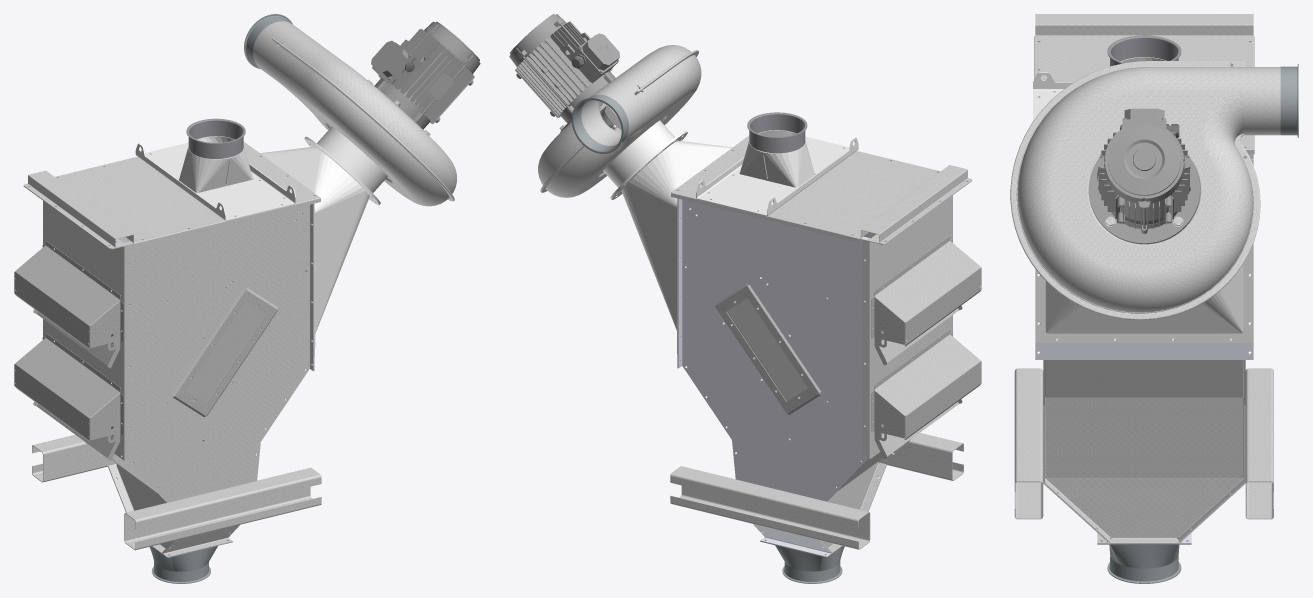
Rendered from NDV15-35.glb.
The picture shows the model from 3 angles, left to right: view 1: azimuth 30°, elevation 25°; view 2: azimuth 150°, elevation 25°; view 3: azimuth 270°, elevation 25°; orthographic projection. The views are drawn at different scales.
Visible parts, largest first — view 1: Volumenkörper4, Volumenkörper2.018, Volumenkörper3, Volumenkörper1.002, Volumenkörper2.027, Volumenkörper2.025, Volumenkörper2.002, Volumenkörper2.012, Solid1.009, Volumenkörper2.022, Volumenkörper2.029, Volumenkörper2.011 (+15 smaller); view 2: Volumenkörper2.001, Volumenkörper3, Volumenkörper2.018, Volumenkörper1.001, Volumenkörper2.027, Volumenkörper2.025, Volumenkörper2.002, Volumenkörper5, Solid1.009, Volumenkörper2.022, Volumenkörper2.030, Volumenkörper2.010 (+15 smaller); view 3: Volumenkörper2.018, Volumenkörper2.009, Volumenkörper3, Solid1.010, Volumenkörper2.021, Volumenkörper5, Volumenkörper1.002, Volumenkörper1.001, Volumenkörper2.012, Volumenkörper2, Volumenkörper1, Solid1.008 (+6 smaller).
Boxes of the visible parts, box(x1,y1,x2,y2) form: Volumenkörper4: box(125, 204, 313, 557); Volumenkörper2.018: box(253, 21, 456, 206); Volumenkörper3: box(23, 141, 320, 248); Volumenkörper1.002: box(124, 467, 321, 550); Volumenkörper2.027: box(14, 333, 123, 441); Volumenkörper2.025: box(14, 241, 123, 349); Volumenkörper2.002: box(23, 186, 131, 460); Volumenkörper2.012: box(288, 151, 369, 347); Solid1.009: box(374, 29, 474, 123); Volumenkörper2.022: box(135, 142, 296, 221); Volumenkörper2.029: box(172, 287, 277, 416); Volumenkörper2.011: box(186, 302, 265, 403); Volumenkörper2.001: box(678, 198, 868, 557); Volumenkörper3: box(671, 136, 972, 244); Volumenkörper2.018: box(538, 45, 701, 197); Volumenkörper1.001: box(670, 466, 870, 549); Volumenkörper2.027: box(871, 330, 981, 439); Volumenkörper2.025: box(871, 236, 981, 346); Volumenkörper2.002: box(862, 181, 971, 458); Volumenkörper5: box(621, 145, 704, 344); Solid1.009: box(515, 21, 617, 117); Volumenkörper2.022: box(696, 136, 858, 216); Volumenkörper2.030: box(715, 283, 821, 414); Volumenkörper2.010: box(726, 298, 807, 401); Volumenkörper2.018: box(1017, 67, 1280, 312); Volumenkörper2.009: box(1044, 339, 1244, 543); Volumenkörper3: box(1034, 14, 1254, 154); Solid1.010: box(1098, 117, 1190, 208); Volumenkörper2.021: box(1010, 61, 1260, 320); Volumenkörper5: box(1144, 243, 1253, 342); Volumenkörper1.002: box(1014, 368, 1043, 519); Volumenkörper1.001: box(1245, 368, 1273, 519); Volumenkörper2.012: box(1035, 269, 1144, 342); Volumenkörper2: box(1035, 147, 1253, 359); Volumenkörper1: box(1097, 537, 1191, 583); Solid1.008: box(1088, 160, 1199, 244).
Bounding box in the file's own units: 1.37 × 1.49 × 0.6468.
37 materials, 15 textured.
